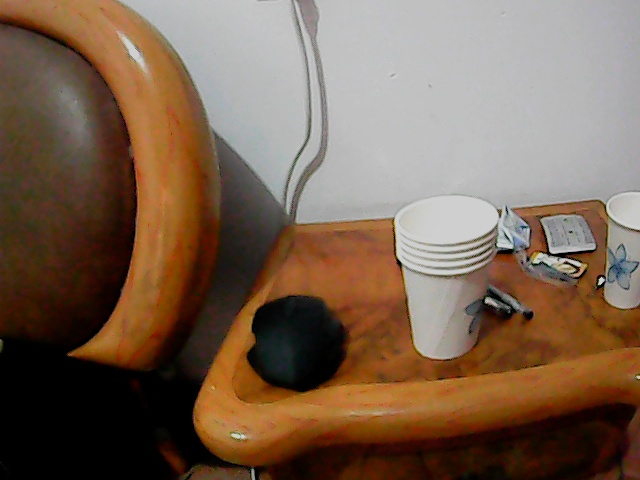cup: (394, 192, 497, 361)
mouse: (245, 291, 343, 391)
